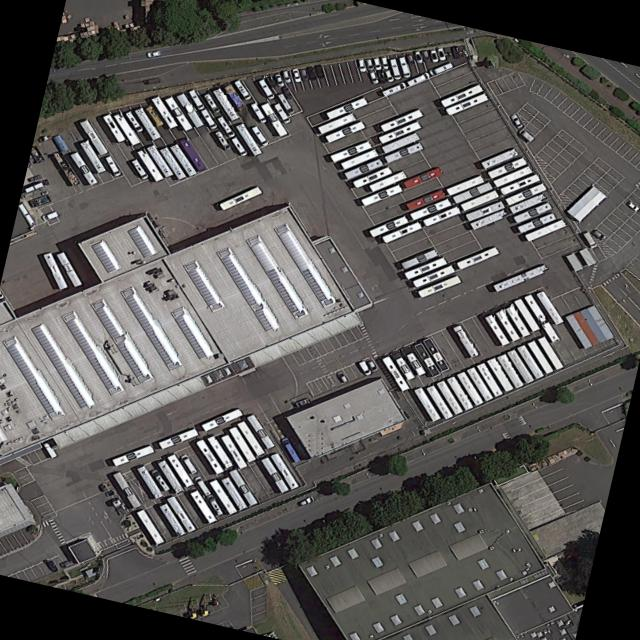large-vehicle: (492, 263, 550, 291), (270, 451, 300, 488), (166, 494, 196, 531), (219, 184, 263, 209), (79, 118, 109, 154), (379, 107, 424, 131), (229, 468, 258, 505), (209, 477, 238, 514), (112, 470, 141, 507), (416, 274, 462, 297), (456, 245, 500, 269), (440, 82, 484, 106), (325, 95, 369, 119), (260, 455, 289, 491), (246, 412, 275, 448), (195, 438, 224, 473), (69, 150, 98, 185), (165, 95, 194, 130), (412, 263, 456, 286), (445, 91, 489, 114), (378, 120, 422, 143), (451, 322, 479, 358), (179, 135, 207, 171), (524, 217, 566, 241), (176, 91, 204, 127), (228, 425, 256, 461), (237, 419, 265, 455), (382, 354, 410, 390), (496, 352, 524, 388), (504, 181, 547, 204), (158, 145, 187, 179), (146, 142, 174, 177), (136, 146, 164, 181), (136, 508, 164, 543), (466, 365, 494, 400), (436, 378, 464, 413), (426, 383, 454, 418), (260, 101, 288, 136), (404, 256, 448, 278), (201, 407, 243, 430), (402, 165, 444, 188), (526, 339, 554, 373), (536, 289, 564, 323), (206, 434, 234, 468), (166, 452, 194, 486), (189, 488, 217, 522), (506, 348, 534, 382), (486, 356, 514, 390), (456, 370, 484, 404), (413, 386, 441, 420), (360, 183, 403, 205), (517, 343, 544, 378), (537, 334, 564, 369), (113, 110, 140, 145), (157, 458, 184, 493), (476, 361, 503, 396), (423, 336, 450, 371), (414, 341, 441, 376), (452, 180, 493, 203), (56, 250, 82, 286), (43, 251, 68, 288), (169, 142, 197, 175), (381, 220, 423, 242), (79, 139, 107, 172), (112, 443, 154, 465), (235, 122, 263, 155), (499, 172, 541, 194), (487, 155, 527, 178), (151, 94, 178, 128), (221, 475, 248, 509), (159, 502, 186, 536), (136, 464, 163, 498), (446, 375, 473, 409), (213, 86, 240, 120), (409, 197, 452, 218), (329, 140, 372, 161), (352, 165, 393, 187), (325, 120, 366, 142), (494, 308, 521, 341), (134, 106, 161, 139), (514, 297, 540, 331), (221, 433, 247, 467), (369, 214, 409, 236), (492, 164, 532, 186), (406, 188, 447, 209), (383, 141, 424, 162), (340, 147, 379, 169), (512, 201, 552, 222), (517, 211, 557, 232), (460, 189, 500, 210), (368, 169, 408, 190), (159, 427, 199, 448), (344, 157, 384, 178), (318, 111, 356, 133), (484, 313, 510, 345), (506, 304, 531, 337), (400, 247, 439, 268), (508, 192, 547, 213), (446, 174, 485, 195), (381, 131, 420, 152), (465, 200, 505, 220), (470, 208, 508, 229), (422, 204, 460, 225), (481, 147, 519, 168), (102, 112, 126, 141), (224, 83, 248, 111), (524, 293, 546, 319), (405, 351, 426, 375), (395, 355, 414, 379), (541, 320, 560, 342)
small-vehicle: (279, 436, 303, 464), (150, 467, 172, 491), (211, 127, 233, 150), (129, 155, 150, 179), (275, 91, 296, 114), (272, 100, 293, 123), (216, 113, 236, 137), (124, 110, 145, 132), (231, 77, 252, 99), (191, 474, 212, 496), (103, 152, 123, 175), (204, 493, 224, 516), (250, 124, 270, 146), (256, 77, 276, 98), (379, 80, 407, 95), (187, 87, 206, 109), (179, 452, 198, 474), (428, 60, 454, 76), (405, 70, 431, 86), (579, 227, 599, 247), (199, 107, 218, 128), (229, 135, 248, 156), (249, 101, 267, 123), (202, 92, 220, 113), (388, 56, 402, 80), (398, 54, 412, 76), (517, 126, 535, 142), (357, 358, 373, 375), (42, 440, 57, 458), (509, 112, 524, 128), (262, 71, 277, 86), (366, 68, 380, 84), (40, 209, 60, 220), (295, 494, 313, 506), (290, 65, 302, 82), (279, 84, 293, 98), (376, 68, 389, 83), (591, 228, 606, 241), (435, 43, 447, 59), (357, 54, 368, 71), (46, 559, 60, 572), (625, 199, 640, 211), (306, 64, 317, 80), (336, 369, 349, 382), (420, 47, 432, 61), (383, 67, 395, 81), (429, 46, 440, 61), (449, 44, 461, 57), (314, 63, 325, 77), (274, 72, 285, 86), (413, 48, 424, 62), (300, 65, 310, 80), (366, 359, 378, 371), (405, 52, 416, 65), (379, 54, 390, 67), (372, 55, 382, 69), (146, 48, 161, 57), (281, 69, 292, 81), (104, 487, 116, 497), (365, 56, 374, 69), (99, 482, 107, 491)
